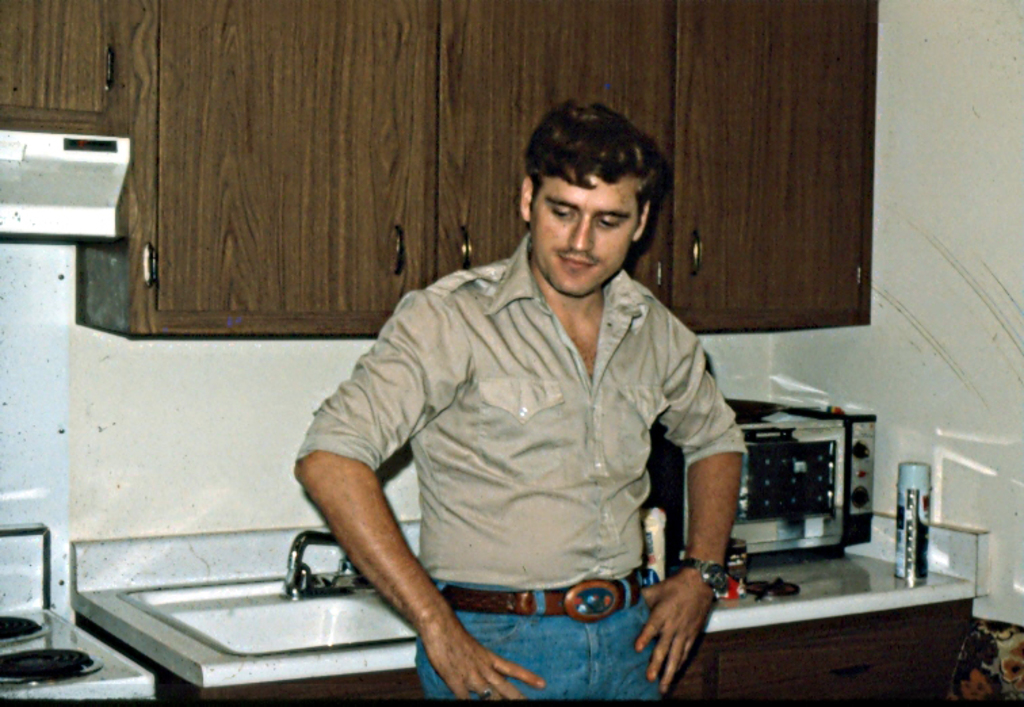cabinet door: (153, 4, 423, 298), (685, 16, 853, 301), (2, 1, 106, 111)
handle: (450, 213, 479, 262), (386, 221, 410, 275), (686, 227, 704, 273)
